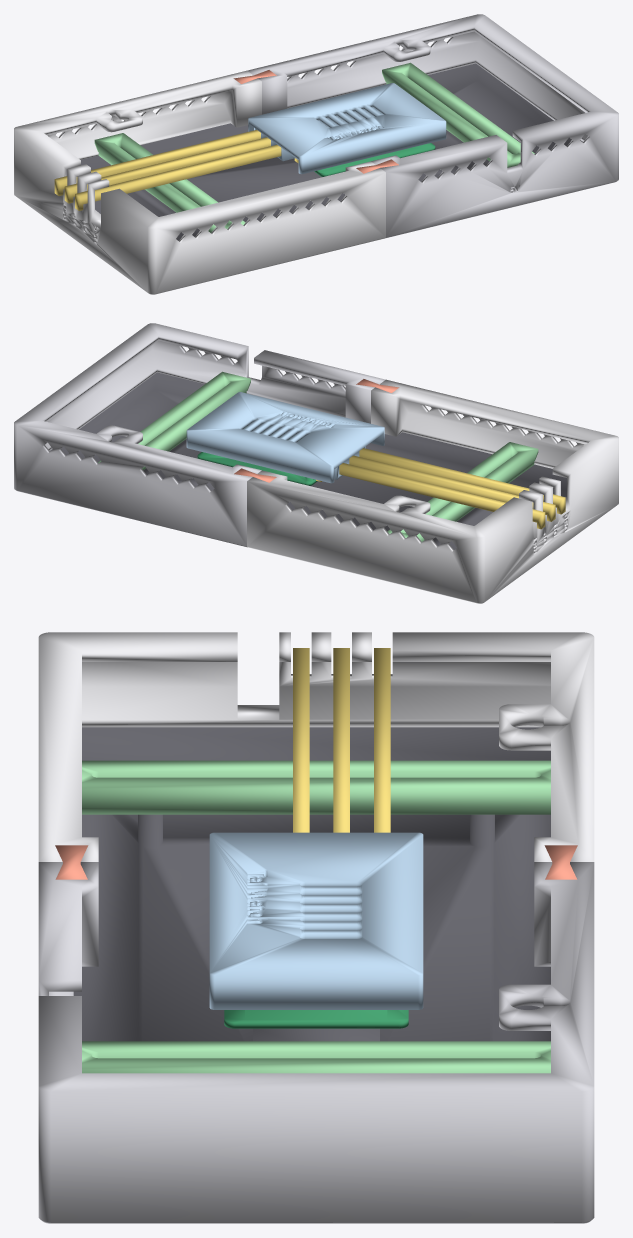
File: tailwatch_enclosure.glb
3 views of the same model, one above another, from view 1: azimuth 30°, elevation 25°; view 2: azimuth 150°, elevation 25°; view 3: azimuth 270°, elevation 25° (orthographic). The views are drawn at different scales.
Parts seen in each view (by area): view 1: frame_left, frame_right, portal_pod, panel_dummy, button_rods, strap_2, strap_1, portal_dummy; view 2: frame_left, frame_right, portal_pod, panel_dummy, button_rods, strap_2, strap_1, portal_dummy; view 3: frame_right, panel_dummy, frame_left, portal_pod, strap_1, strap_2, button_rods, portal_dummy, bowtie_key_1, bowtie_key_2.
Part boxes in pixels (x1=…): frame_left: x1=14, y1=70, x2=385, y2=294; frame_right: x1=247, y1=14, x2=618, y2=238; portal_pod: x1=248, y1=83, x2=446, y2=174; panel_dummy: x1=66, y1=63, x2=582, y2=240; button_rods: x1=54, y1=130, x2=298, y2=210; strap_2: x1=382, y1=62, x2=534, y2=167; strap_1: x1=94, y1=133, x2=245, y2=232; portal_dummy: x1=314, y1=143, x2=435, y2=176; frame_left: x1=247, y1=379, x2=618, y2=603; frame_right: x1=14, y1=323, x2=385, y2=547; portal_pod: x1=186, y1=392, x2=384, y2=483; panel_dummy: x1=50, y1=372, x2=566, y2=549; button_rods: x1=316, y1=448, x2=565, y2=529; strap_2: x1=98, y1=371, x2=250, y2=470; strap_1: x1=387, y1=442, x2=538, y2=541; portal_dummy: x1=197, y1=452, x2=317, y2=485; frame_right: x1=38, y1=862, x2=594, y2=1223; panel_dummy: x1=73, y1=727, x2=550, y2=1041; frame_left: x1=38, y1=632, x2=594, y2=861; portal_pod: x1=209, y1=832, x2=423, y2=1009; strap_1: x1=82, y1=760, x2=550, y2=814; strap_2: x1=82, y1=1041, x2=550, y2=1073; button_rods: x1=293, y1=648, x2=390, y2=832; portal_dummy: x1=224, y1=1010, x2=408, y2=1028; bowtie_key_1: x1=55, y1=845, x2=88, y2=879; bowtie_key_2: x1=544, y1=845, x2=577, y2=879.
Size of the model in its own units: 266 by 35.5 by 134.
